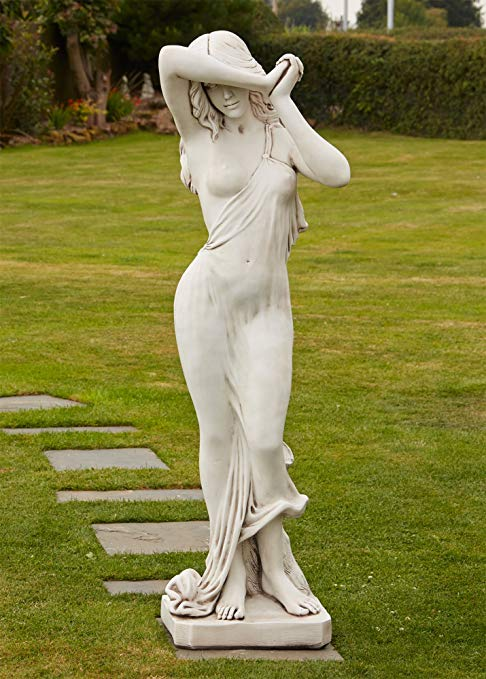person-like: (152, 27, 356, 623)
